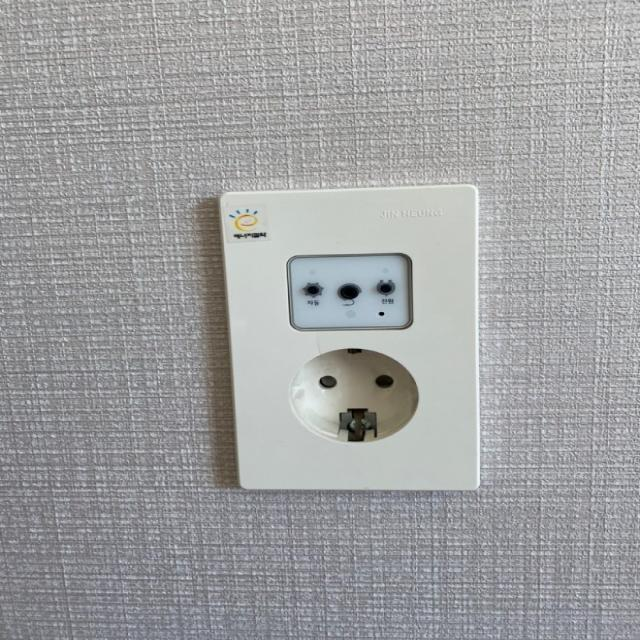typeb: (201, 174, 568, 536)
